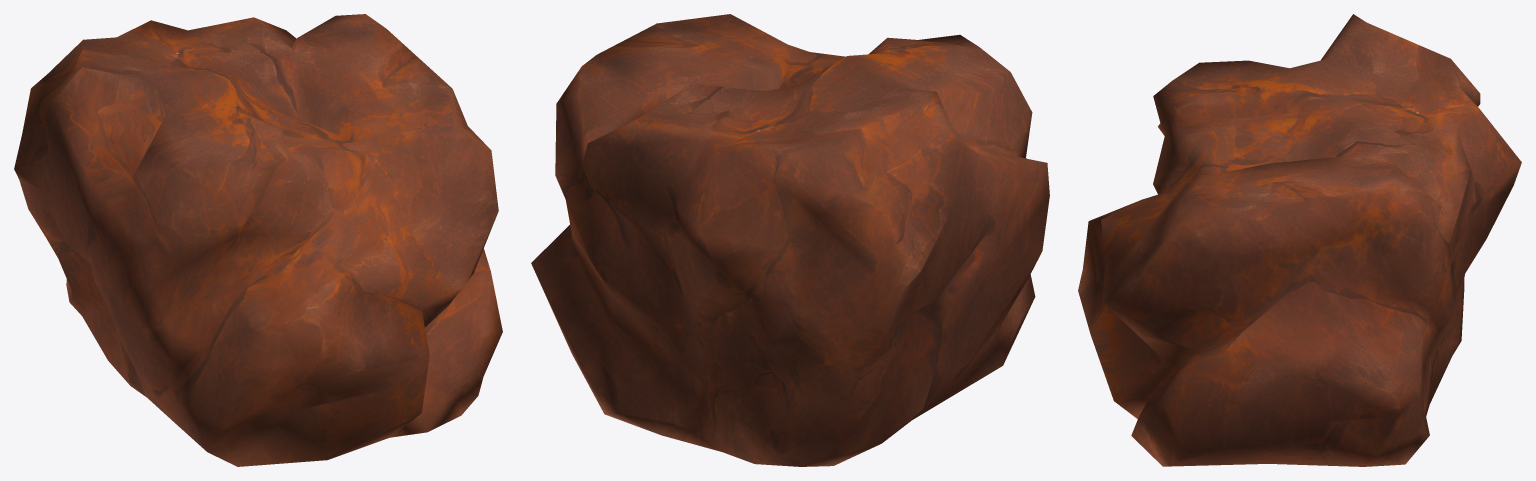
File: rock_4.glb
The picture shows the model from 3 angles, left to right: view 1: azimuth 30°, elevation 25°; view 2: azimuth 150°, elevation 25°; view 3: azimuth 270°, elevation 25°; orthographic projection. The views are drawn at different scales.
Parts seen in each view (by area): view 1: tripo_node_b4b5e5e0-b88b-4d31-966a-03f30aa9460d; view 2: tripo_node_b4b5e5e0-b88b-4d31-966a-03f30aa9460d; view 3: tripo_node_b4b5e5e0-b88b-4d31-966a-03f30aa9460d.
Part boxes in pixels (<box>): tripo_node_b4b5e5e0-b88b-4d31-966a-03f30aa9460d: <box>14,14,502,466</box>; tripo_node_b4b5e5e0-b88b-4d31-966a-03f30aa9460d: <box>531,14,1049,466</box>; tripo_node_b4b5e5e0-b88b-4d31-966a-03f30aa9460d: <box>1078,14,1521,466</box>.
Bounding box in the file's own units: 0.9394 × 0.8203 × 1.01.
Materials: 1 (1 with a texture image).
